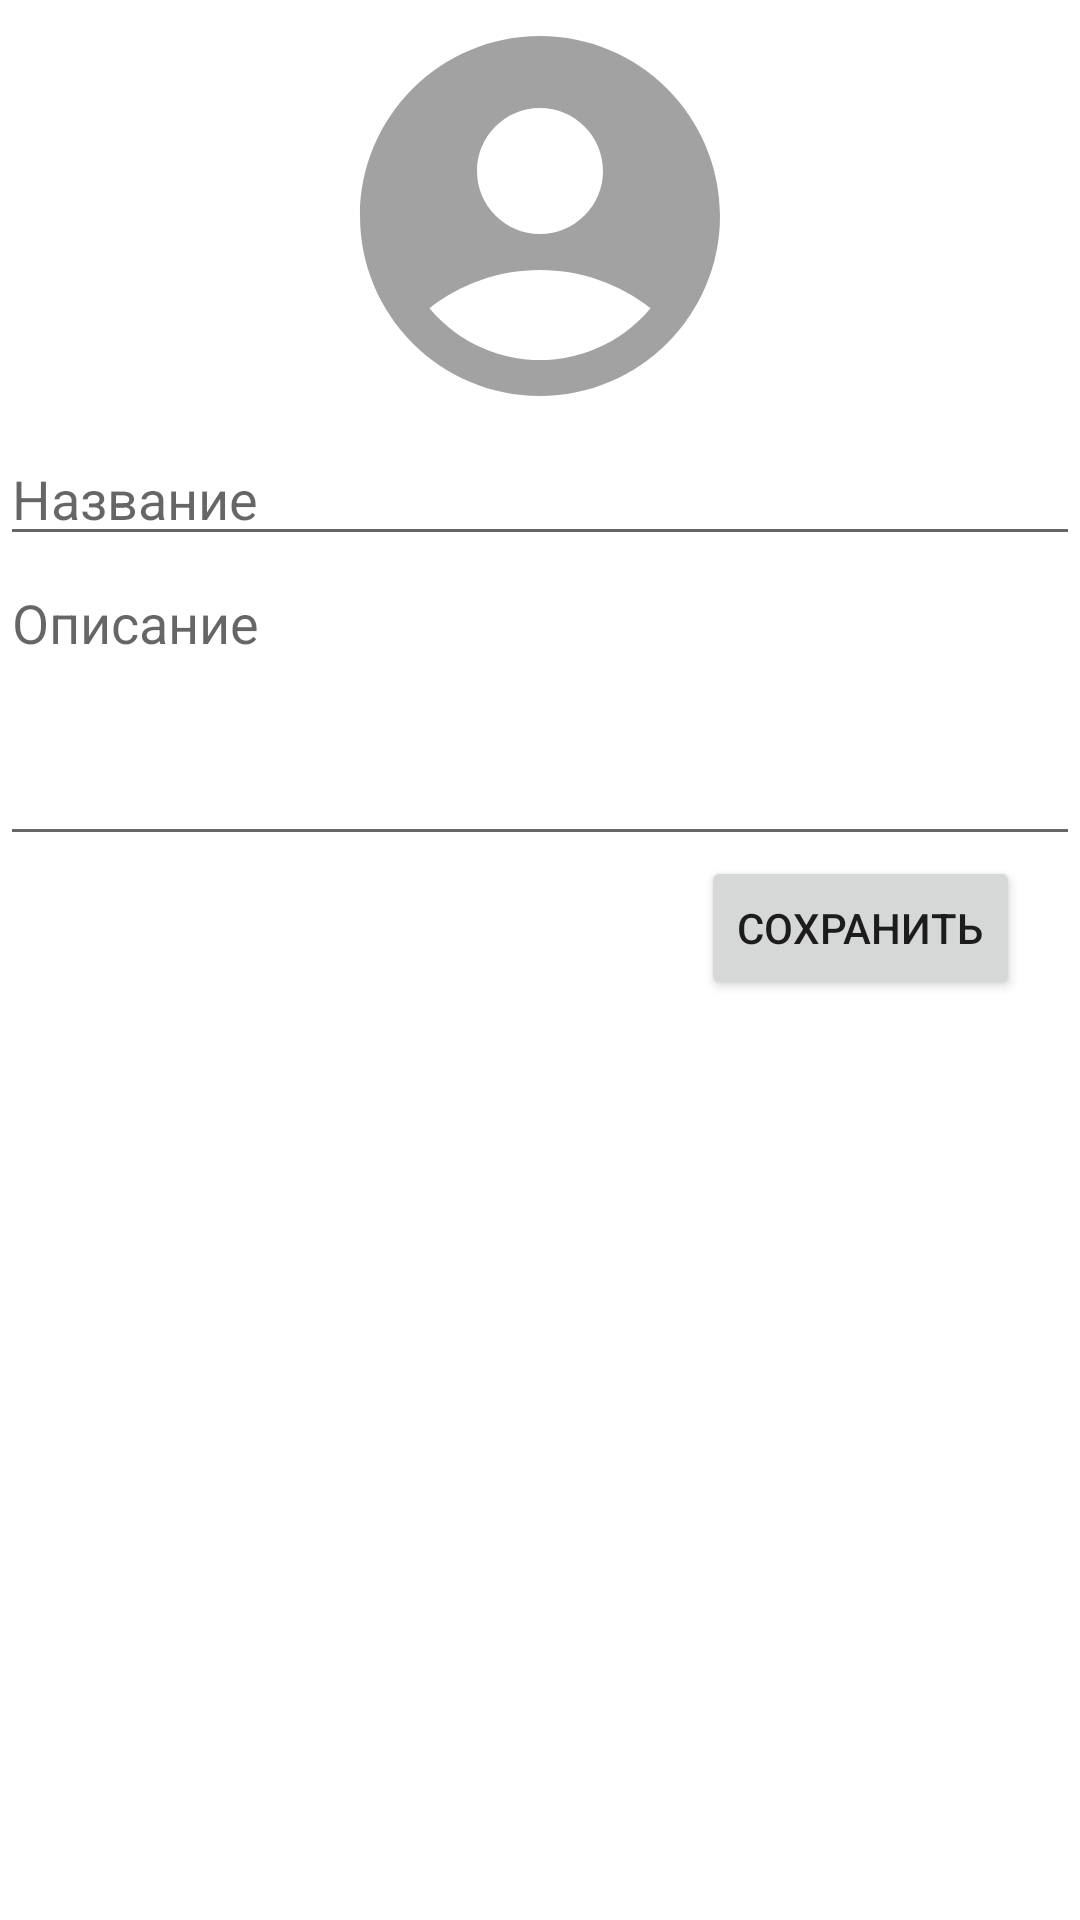

Icon click points for this 1080w x 1920h phone screenshot, format (x=x, y=y):
account circle: (x=540, y=216)
